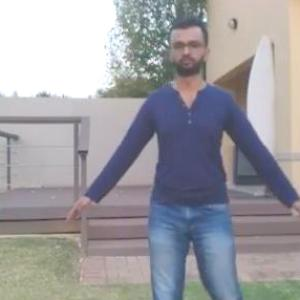land: (82, 36, 299, 299)
